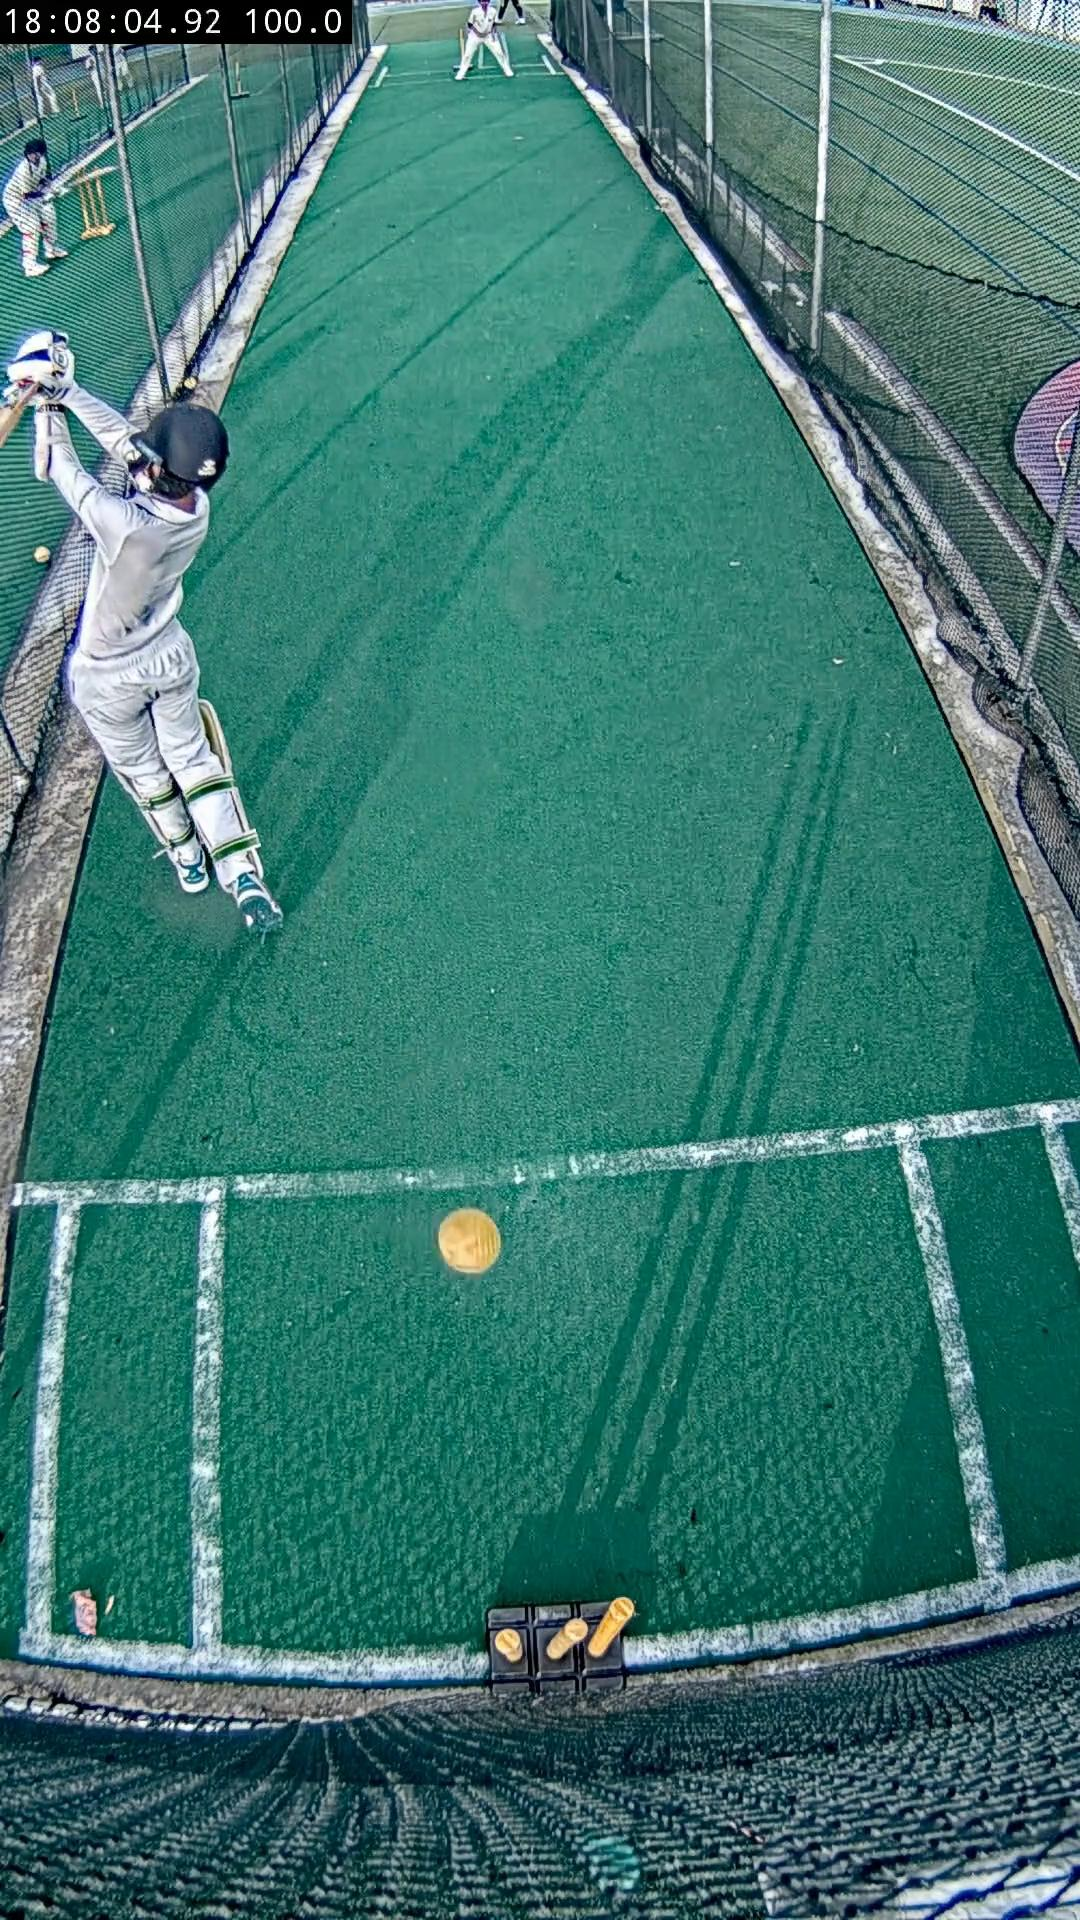ball: (439, 1208, 502, 1275)
bat: (0, 382, 37, 444)
gloves: (8, 330, 75, 392)
helmet: (128, 405, 228, 488)
pads: (199, 698, 232, 774)
stumps: (488, 1597, 634, 1695)
